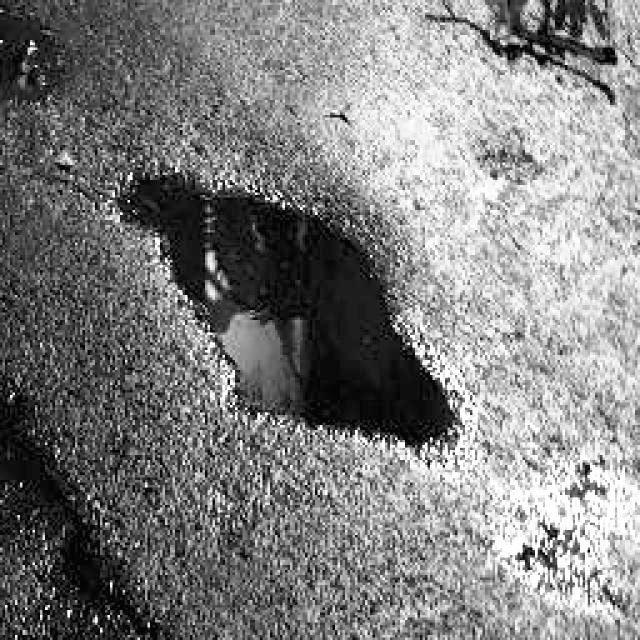Pothole: (87, 148, 476, 461)
